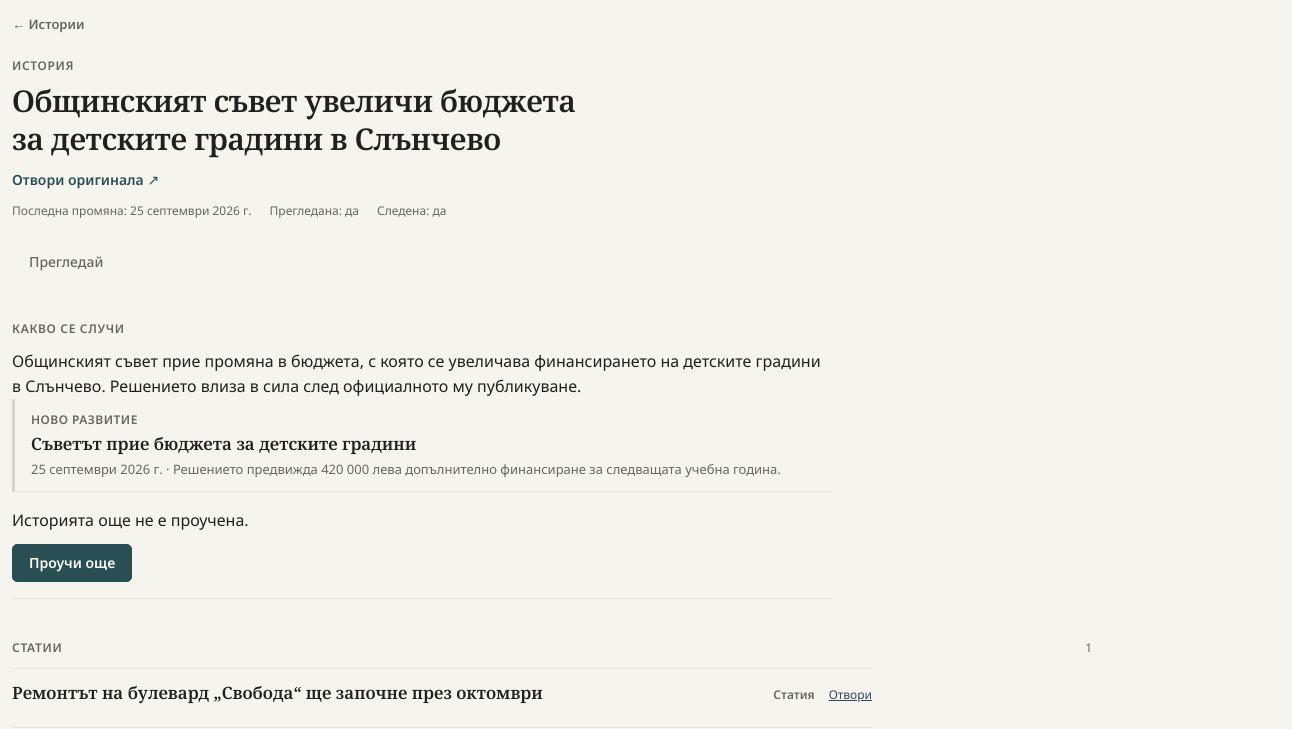
V1.2-G2.2 — an operational refusal is never an evidence statement › renders RESEARCH_UNAVAILABLE as operational wording
Expected: the heading "Общинският съвет увеличи бюджета за детските градини в Слънчево" is shown, [12,80,576,159]
Click the button "Проучи още" at [72, 563], box [12,544,132,582]
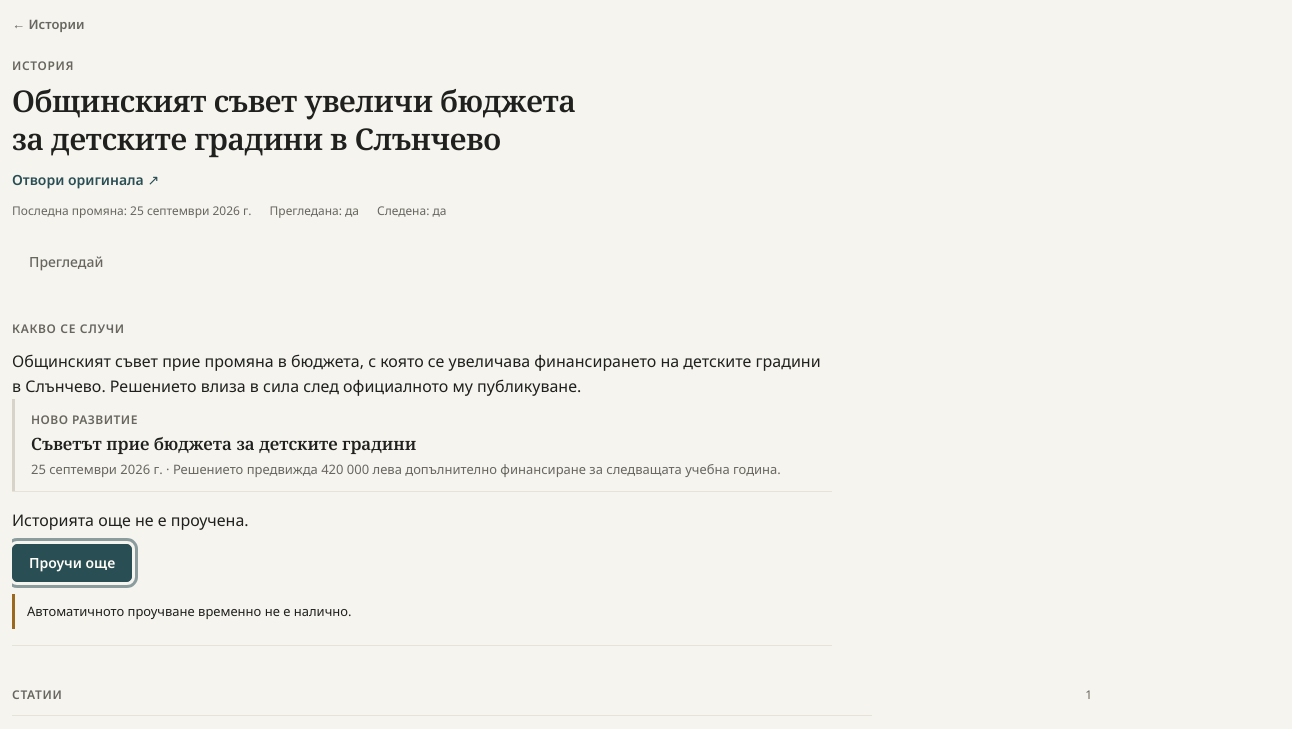
Result: the message reads "Автоматичното проучване временно не е налично." at [27,602,352,620]
